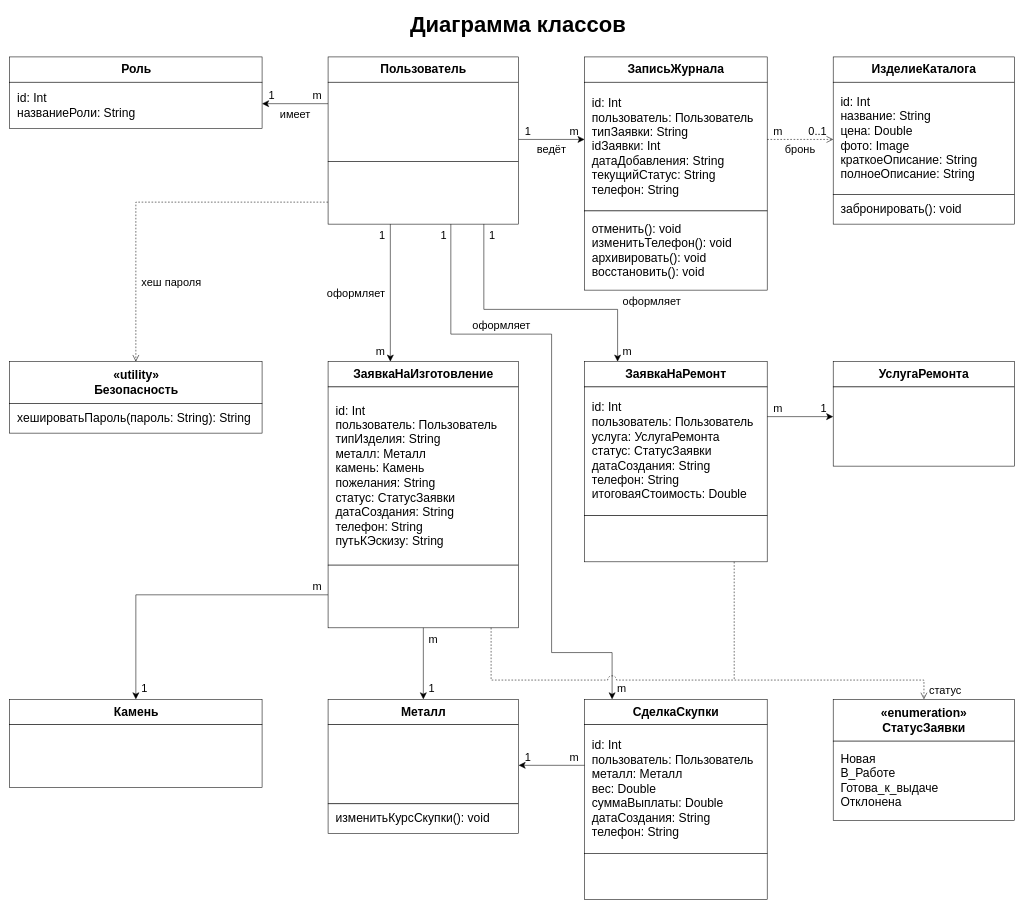
This 1025x909 diagram has some shape labels left out. The shapes that lost their labels are listed below. From the top down, each one's box as (x1, y1, x2, y2) in pixels, then its label:
(328, 82, 519, 161): id: Int логин: String хешПароля: String роль: Роль
(328, 161, 519, 224): войти(): Boolean зарегистрироваться(): Boolean выйти(): void
(833, 386, 1015, 466): id: Int видПоломки: String стоимость: Double срокРемонта: String
(584, 515, 767, 562): оформить(): void изменитьСтатус(): void
(328, 565, 519, 628): оформить(): void прикрепитьЭскиз(): void изменитьСтатус(): void
(9, 724, 262, 787): id: Int название: String ценаЗаШтуку: Double
(328, 724, 519, 804): id: Int название: String ценаСкупки: Double ценаРаботы: Double
(584, 853, 767, 900): рассчитатьВыплату(): Double оформить(): void
